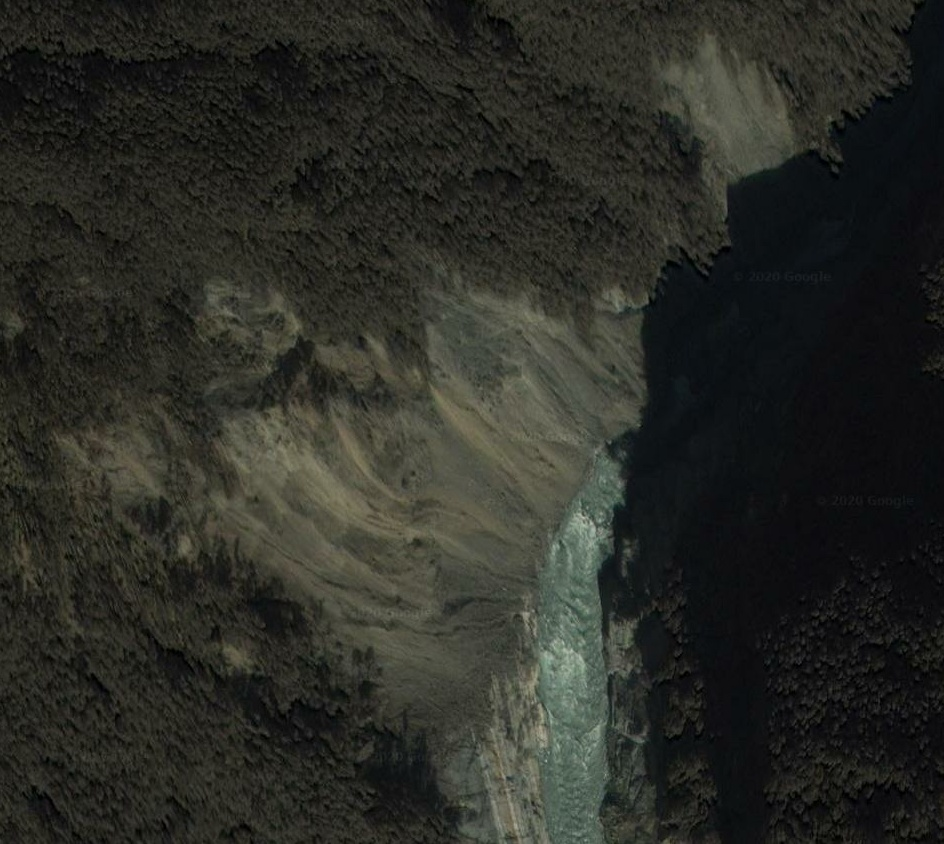slope: (64, 262, 648, 740), (450, 437, 636, 842), (662, 32, 815, 201)
